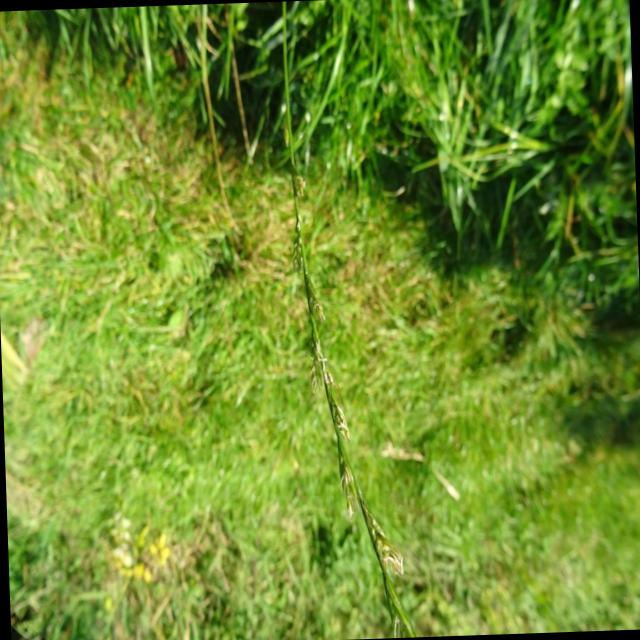Lolium: (273, 0, 421, 638)
